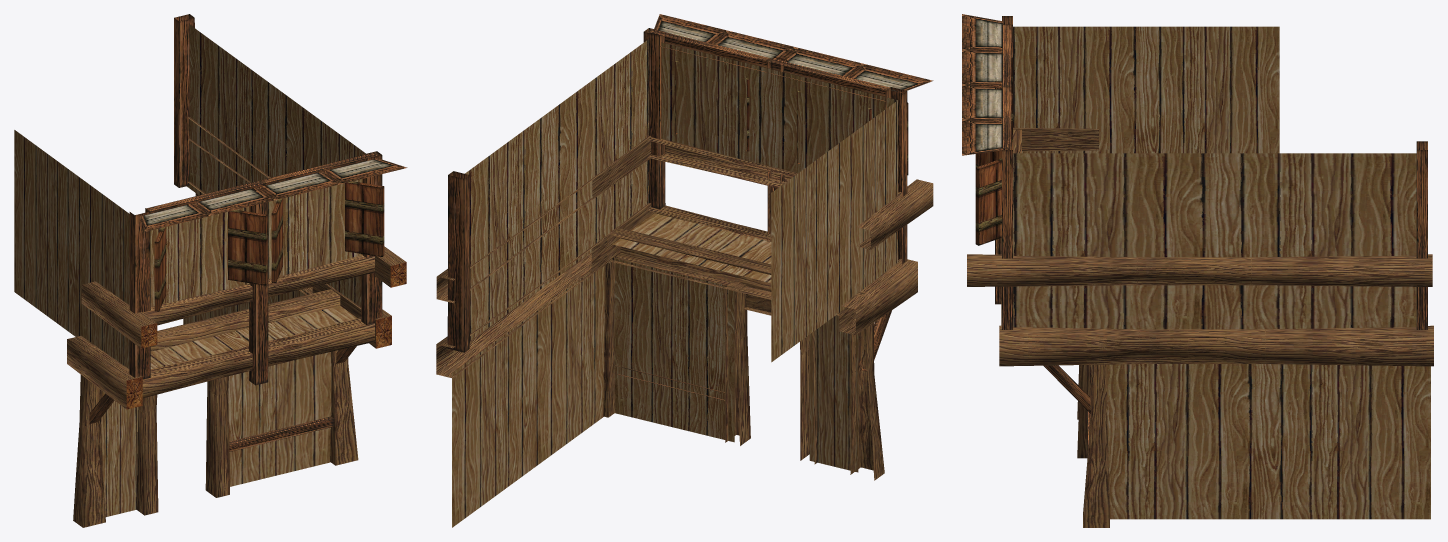
The model's file is LAKETOWN_EXTERIOR_PS_LT_SMALLCORNER546__GX.fbx.
The picture shows the model from 3 angles, left to right: view 1: azimuth 30°, elevation 25°; view 2: azimuth 150°, elevation 25°; view 3: azimuth 270°, elevation 25°; orthographic projection. The views are drawn at different scales.
Visible parts, largest first — view 1: LAKETOWN_EXTERIOR_PS_LT_SMALLCORNER546__GX; view 2: LAKETOWN_EXTERIOR_PS_LT_SMALLCORNER546__GX; view 3: LAKETOWN_EXTERIOR_PS_LT_SMALLCORNER546__GX.
Boxes of the visible parts, x1,y1,x2,y2 form: LAKETOWN_EXTERIOR_PS_LT_SMALLCORNER546__GX: (14,14,407,527); LAKETOWN_EXTERIOR_PS_LT_SMALLCORNER546__GX: (436,14,933,527); LAKETOWN_EXTERIOR_PS_LT_SMALLCORNER546__GX: (962,14,1433,527).
Bounding box in the file's own units: 51719 × 60325 × 69321.
Materials: 8 (8 with a texture image).
